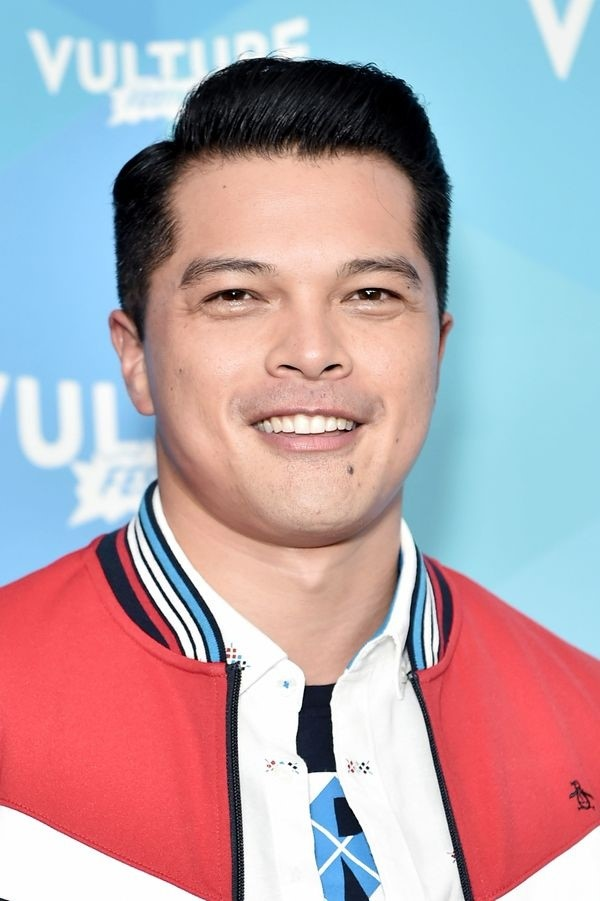face_no_mask: (112, 67, 452, 550)
